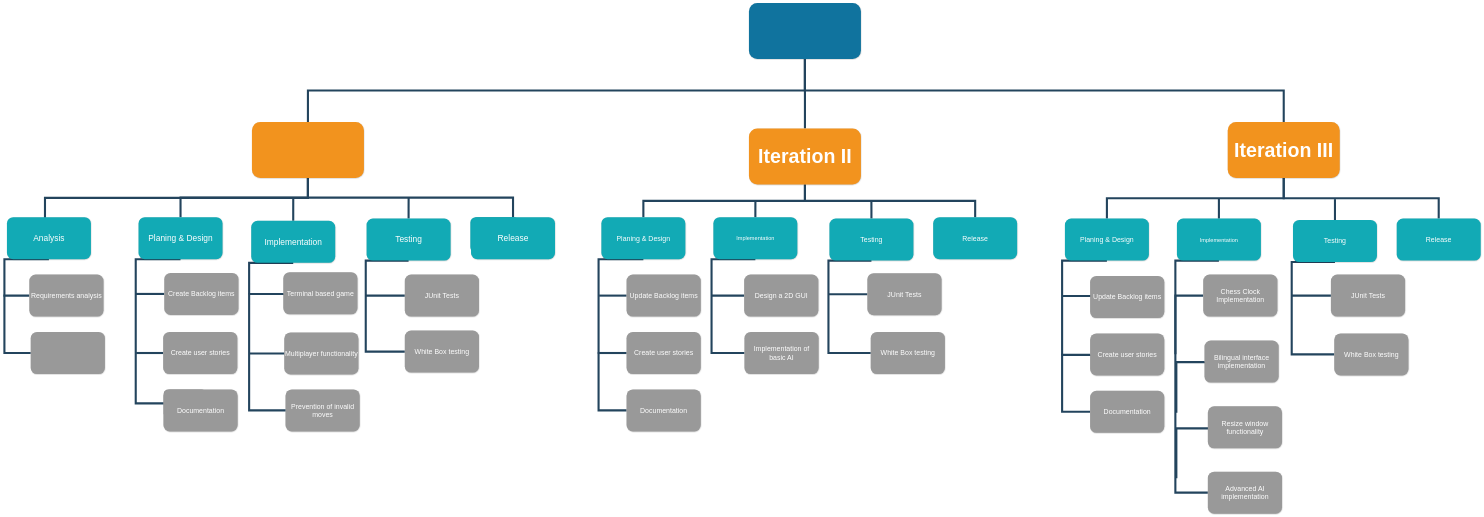
Image size: 1484x517. Some labels were removed from this diagram. Here are the shapes that lost their labels. From the top down, the centre of each, then its label:
(805,31): Chess
(308,150): Iteration I
(68,353): Process Planing
